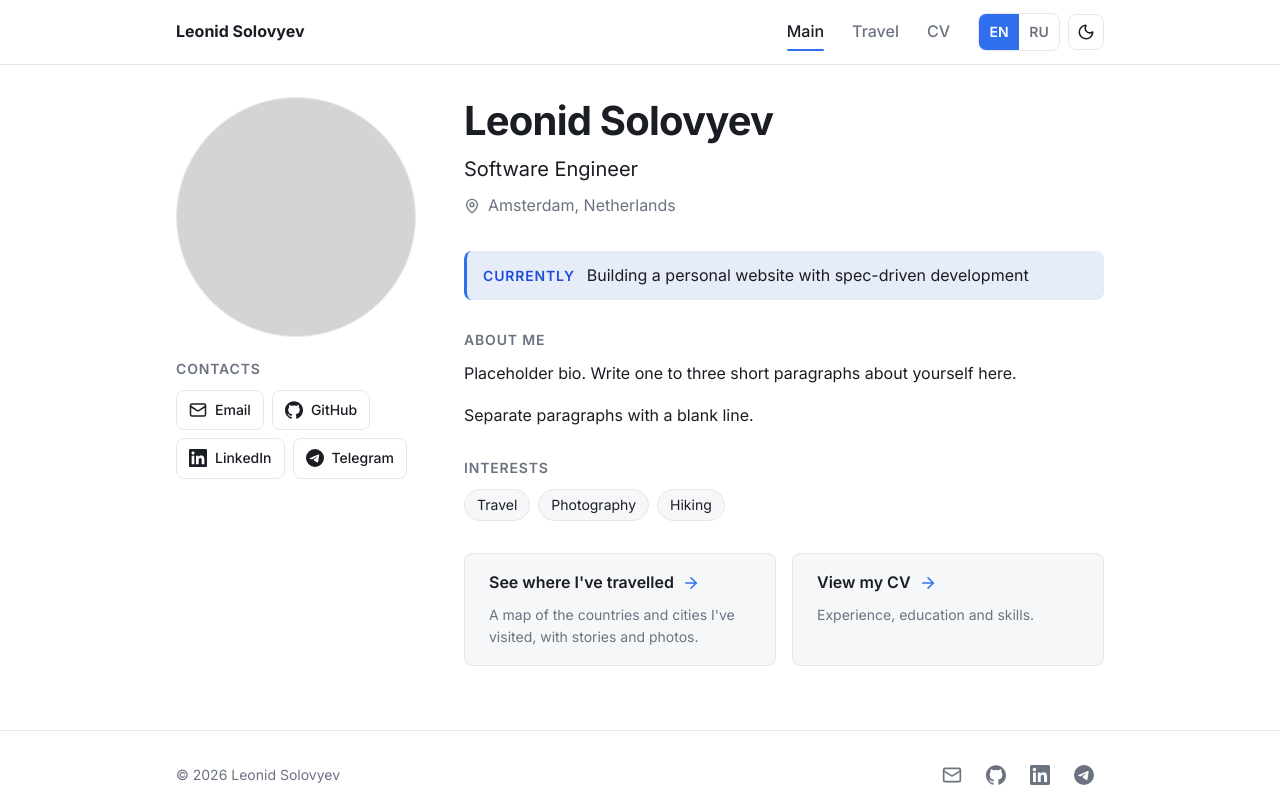
Test case: language switch › has aria-pressed buttons and switches UI text and content
Click the button "RU" at (1039, 32), box [1019,14,1059,50]
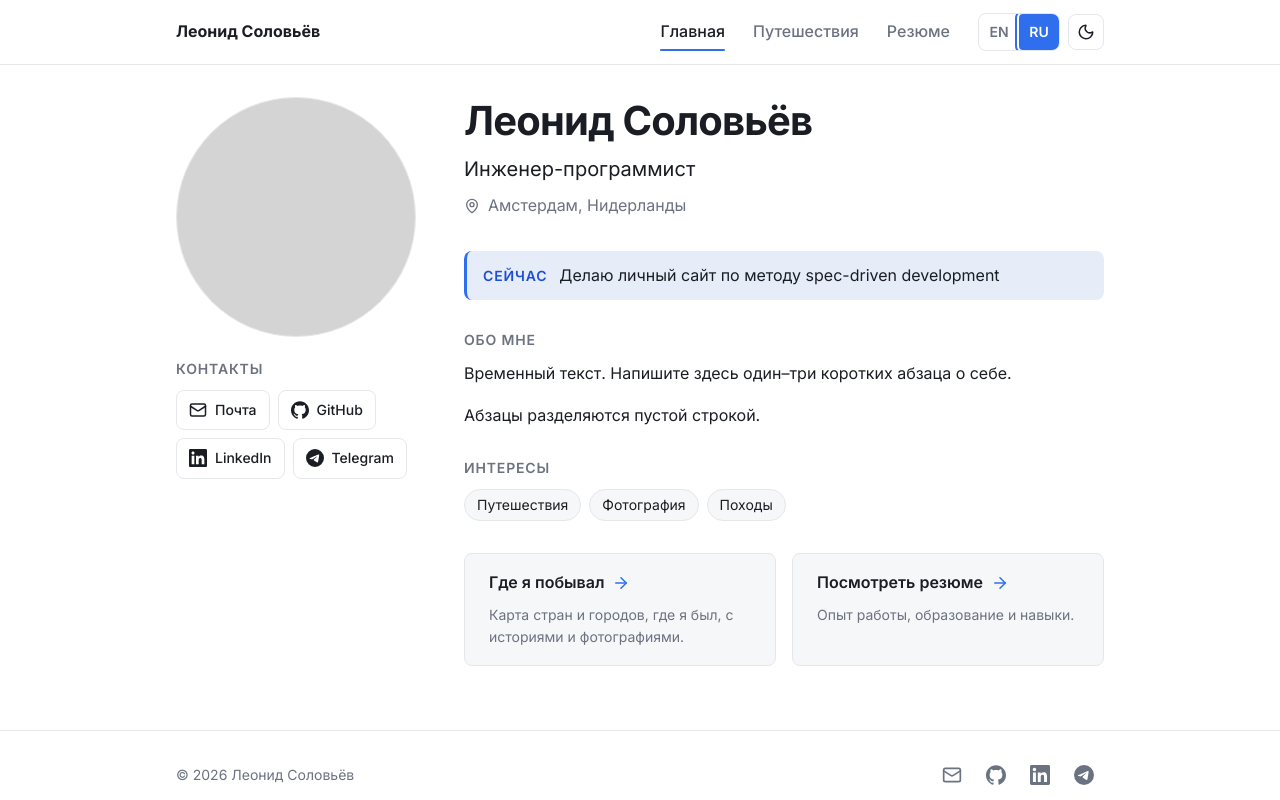
Expected: the link "Путешествия" is shown, [753,21,859,41]
